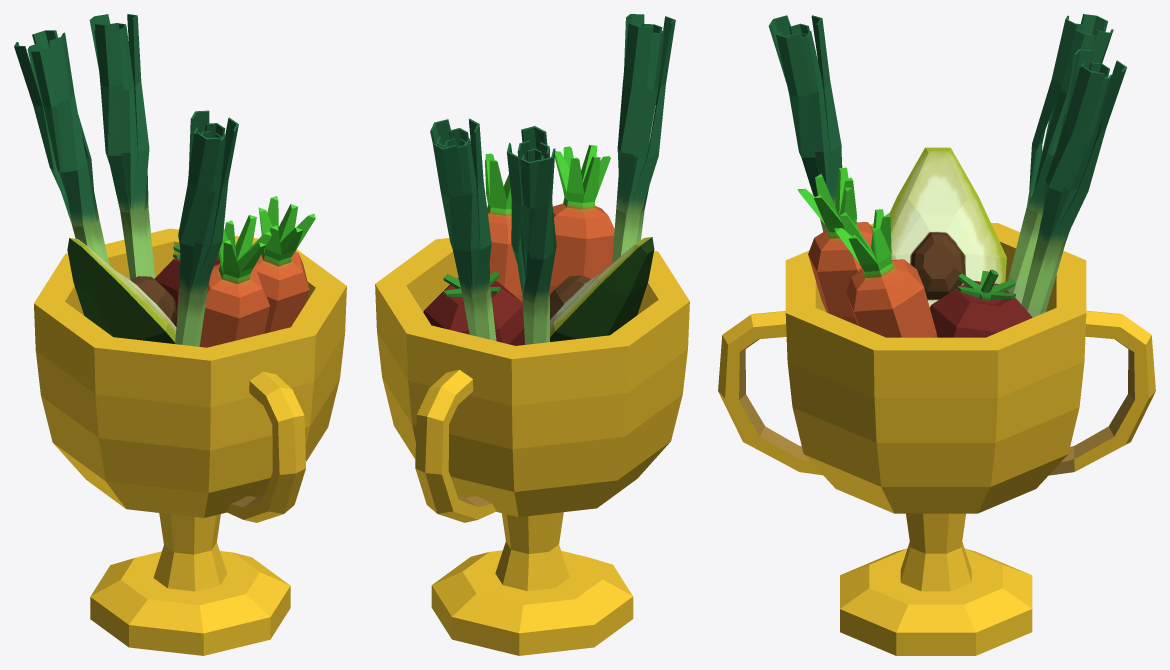
The model's file is Trophy.fbx.
The picture shows the model from 3 angles, left to right: view 1: azimuth 30°, elevation 25°; view 2: azimuth 150°, elevation 25°; view 3: azimuth 270°, elevation 25°; orthographic projection. The views are drawn at different scales.
Visible parts, largest first — view 1: Trophy, Leek.001, Leek.002, Leek.003, Avacodo.001, Carrot.001, Carrot.002, Tomato.002; view 2: Trophy, Leek.003, Leek.001, Leek.002, Avacodo.001, Carrot.001, Tomato.002, Carrot.002; view 3: Trophy, Avacodo.001, Leek.001, Leek.003, Carrot.002, Leek.002, Carrot.001, Tomato.002.
Boxes of the visible parts, bbox=[...] form: Trophy: bbox=[34, 228, 346, 655]; Leek.001: bbox=[89, 14, 155, 279]; Leek.002: bbox=[14, 30, 109, 264]; Leek.003: bbox=[175, 110, 238, 346]; Avacodo.001: bbox=[67, 238, 176, 343]; Carrot.001: bbox=[199, 214, 271, 347]; Carrot.002: bbox=[253, 196, 315, 333]; Tomato.002: bbox=[154, 244, 220, 326]; Trophy: bbox=[375, 238, 689, 655]; Leek.003: bbox=[612, 14, 675, 262]; Leek.001: bbox=[430, 118, 496, 341]; Leek.002: bbox=[507, 126, 556, 344]; Avacodo.001: bbox=[550, 237, 654, 341]; Carrot.001: bbox=[550, 144, 614, 293]; Tomato.002: bbox=[423, 271, 524, 345]; Carrot.002: bbox=[485, 153, 522, 302]; Trophy: bbox=[718, 223, 1155, 655]; Avacodo.001: bbox=[889, 147, 1006, 307]; Leek.001: bbox=[1021, 49, 1126, 317]; Leek.003: bbox=[768, 15, 842, 231]; Carrot.002: bbox=[834, 209, 937, 337]; Leek.002: bbox=[1007, 14, 1113, 304]; Carrot.001: bbox=[797, 167, 873, 325]; Tomato.002: bbox=[930, 269, 1032, 337].
Size of the model in its own units: 289 by 606 by 421.
6 materials, 4 textured.
